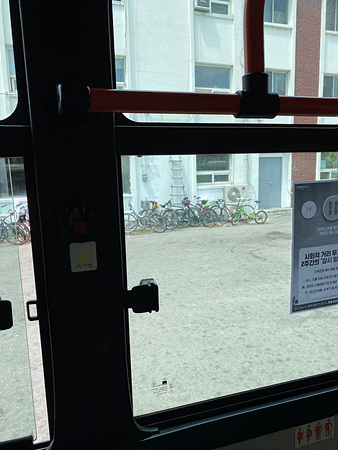bell: (63, 197, 98, 246)
